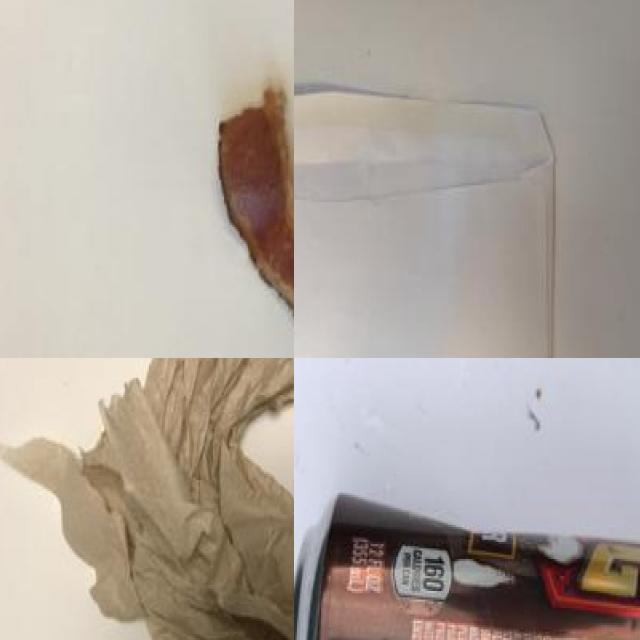compost: (207, 76, 294, 358)
paper: (294, 86, 560, 358)
plastic: (294, 497, 640, 640)
trash: (0, 358, 294, 640)
